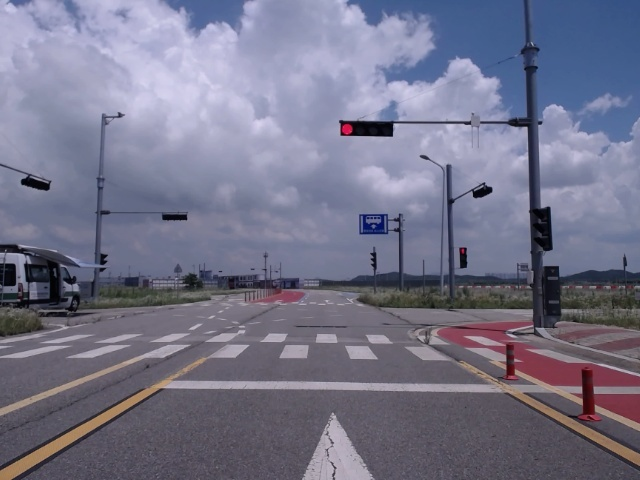red_4: (341, 123, 393, 137)
